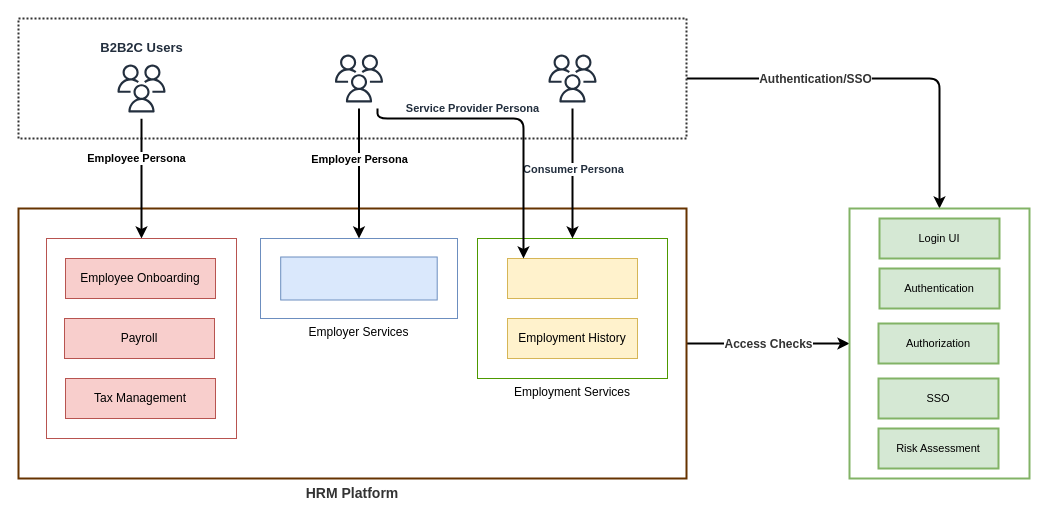
This 1047x531 diagram has some shape labels left out. The box of each missing label's shape, as (x1, y1, x2, y2) in pixels:
Authentication and Authorization Services: (848, 207, 1030, 479)
B2B Users: (328, 48, 389, 108)
B2C Users: (542, 48, 602, 108)
Employee Management: (280, 256, 437, 300)
Employee Services: (46, 238, 236, 438)
Verification: (506, 258, 638, 298)
